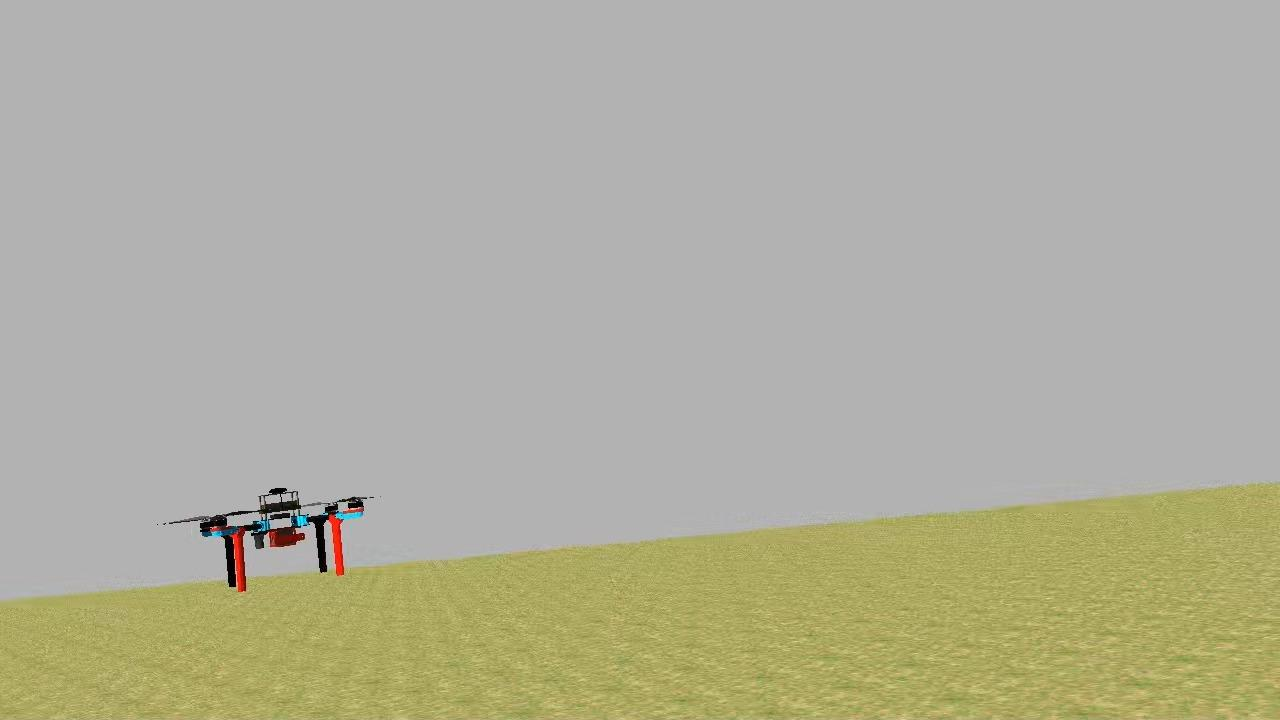UAV: (193, 480, 370, 596)
